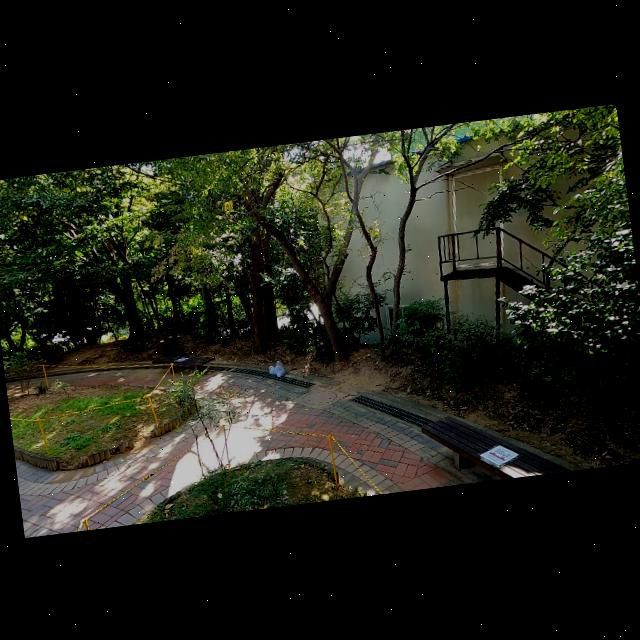trash: (272, 359, 287, 378), (265, 360, 282, 376)
